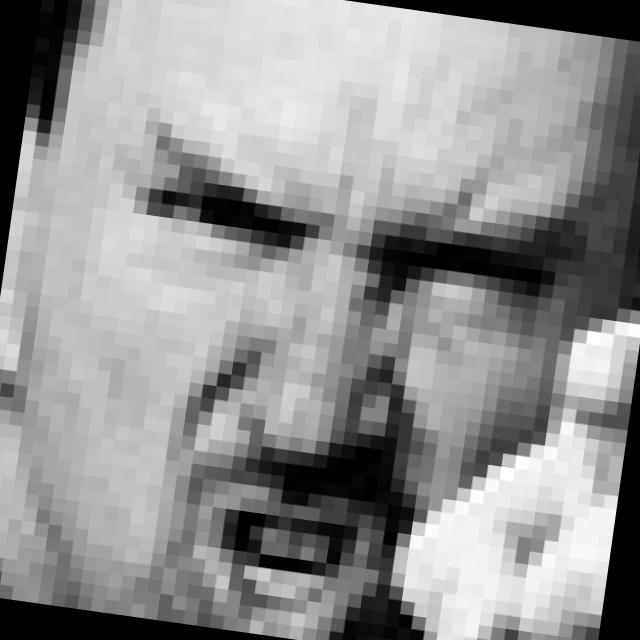angry: (78, 163, 577, 640)
